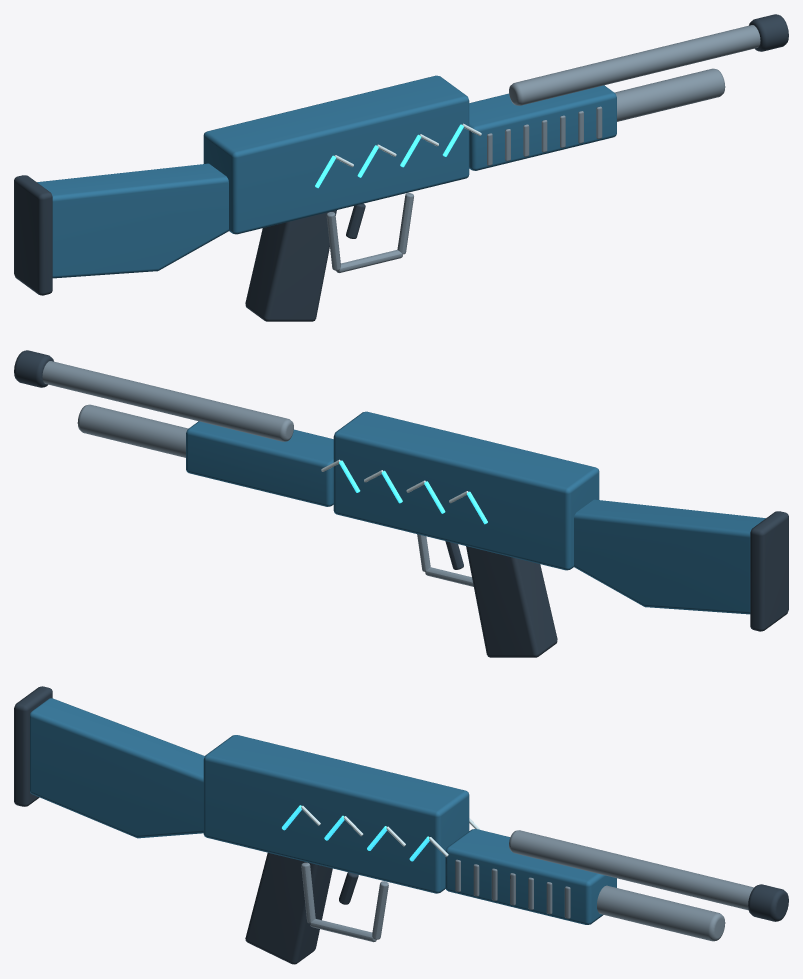
File: nova.glb
3 renders of one model, top to bottom at view 1: azimuth 30°, elevation 25°; view 2: azimuth 150°, elevation 25°; view 3: azimuth 330°, elevation 25°, orthographic.
Visible parts, largest first — view 1: Receiver, Shoulder stock.001, Pump / fore-end, Pistol grip.002, Barrel.002, Butt pad.001, Magazine tube, Muzzle, Trigger guard.007, Trigger guard.008, Trigger guard.006; view 2: Receiver, Shoulder stock.001, Pump / fore-end, Pistol grip.002, Barrel.002, Butt pad.001, Magazine tube, Muzzle; view 3: Receiver, Shoulder stock.001, Pump / fore-end, Pistol grip.002, Barrel.002, Magazine tube, Butt pad.001, Muzzle, Trigger guard.007, Trigger guard.006, Trigger guard.008.
Boxes of the visible parts, bbox=[...] form: Receiver: bbox=[203, 75, 469, 234]; Shoulder stock.001: bbox=[37, 163, 229, 278]; Pump / fore-end: bbox=[469, 85, 616, 170]; Pistol grip.002: bbox=[245, 210, 336, 321]; Barrel.002: bbox=[509, 25, 760, 105]; Butt pad.001: bbox=[14, 175, 52, 295]; Magazine tube: bbox=[614, 68, 725, 121]; Muzzle: bbox=[749, 14, 788, 51]; Trigger guard.007: bbox=[336, 249, 402, 272]; Trigger guard.008: bbox=[397, 193, 413, 254]; Trigger guard.006: bbox=[326, 212, 340, 270]; Receiver: bbox=[333, 411, 599, 570]; Shoulder stock.001: bbox=[573, 499, 765, 614]; Pump / fore-end: bbox=[186, 421, 333, 506]; Pistol grip.002: bbox=[466, 546, 557, 657]; Barrel.002: bbox=[42, 361, 293, 441]; Butt pad.001: bbox=[750, 511, 788, 631]; Magazine tube: bbox=[77, 404, 188, 457]; Muzzle: bbox=[14, 350, 53, 387]; Receiver: bbox=[203, 735, 469, 893]; Shoulder stock.001: bbox=[30, 698, 204, 838]; Pump / fore-end: bbox=[445, 829, 616, 924]; Pistol grip.002: bbox=[245, 852, 332, 964]; Barrel.002: bbox=[509, 830, 753, 910]; Magazine tube: bbox=[597, 885, 725, 941]; Butt pad.001: bbox=[14, 686, 52, 806]; Muzzle: bbox=[748, 884, 788, 921]; Trigger guard.007: bbox=[310, 919, 376, 942]; Trigger guard.006: bbox=[301, 862, 315, 923]; Trigger guard.008: bbox=[372, 881, 388, 939].
Bounding box in the file's own units: 6.21 × 1.54 × 0.5038.
